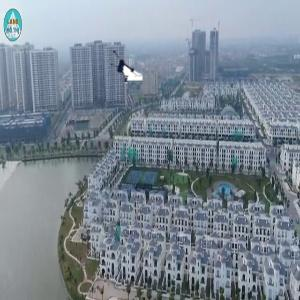drone: (103, 45, 144, 86)
